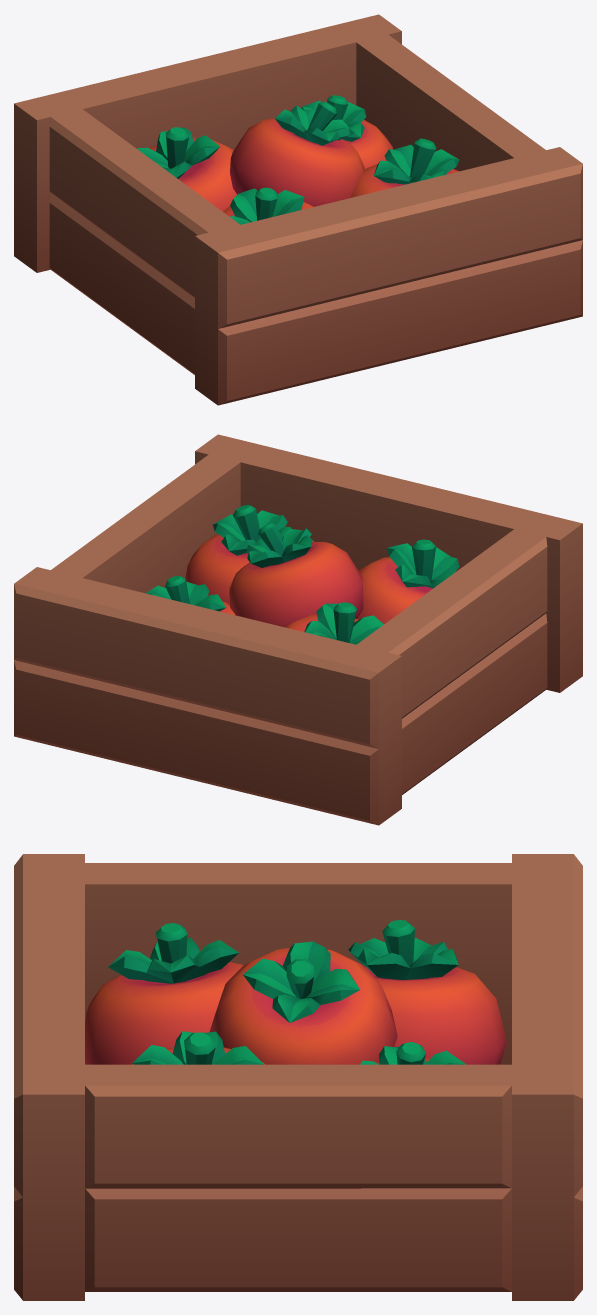
Rendered from kay-crate_tomatoes.glb.
The picture shows the model from 3 angles, top to bottom: view 1: azimuth 30°, elevation 25°; view 2: azimuth 150°, elevation 25°; view 3: azimuth 270°, elevation 25°; orthographic projection. The views are drawn at different scales.
Visible parts, largest first — view 1: crate_tomatoes; view 2: crate_tomatoes; view 3: crate_tomatoes.
Boxes of the visible parts, <box> form: crate_tomatoes: <box>14,14,582,405</box>; crate_tomatoes: <box>14,434,582,825</box>; crate_tomatoes: <box>14,854,582,1300</box>.
Bounding box in the file's own units: 0.6 × 0.277 × 0.6.
1 material, 1 textured.
